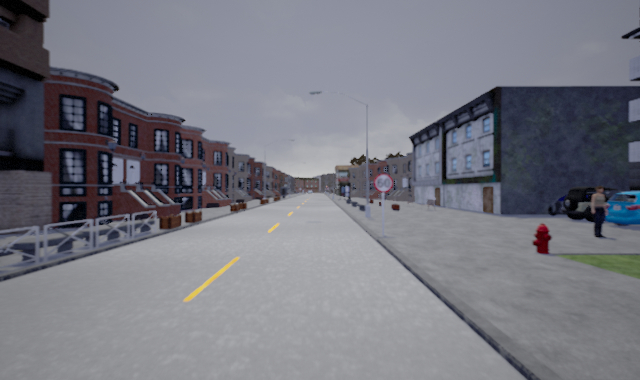pedestrian: (587, 183, 609, 239)
traffic_sign: (373, 173, 394, 193)
vehicle: (565, 186, 631, 221), (605, 188, 640, 225)
